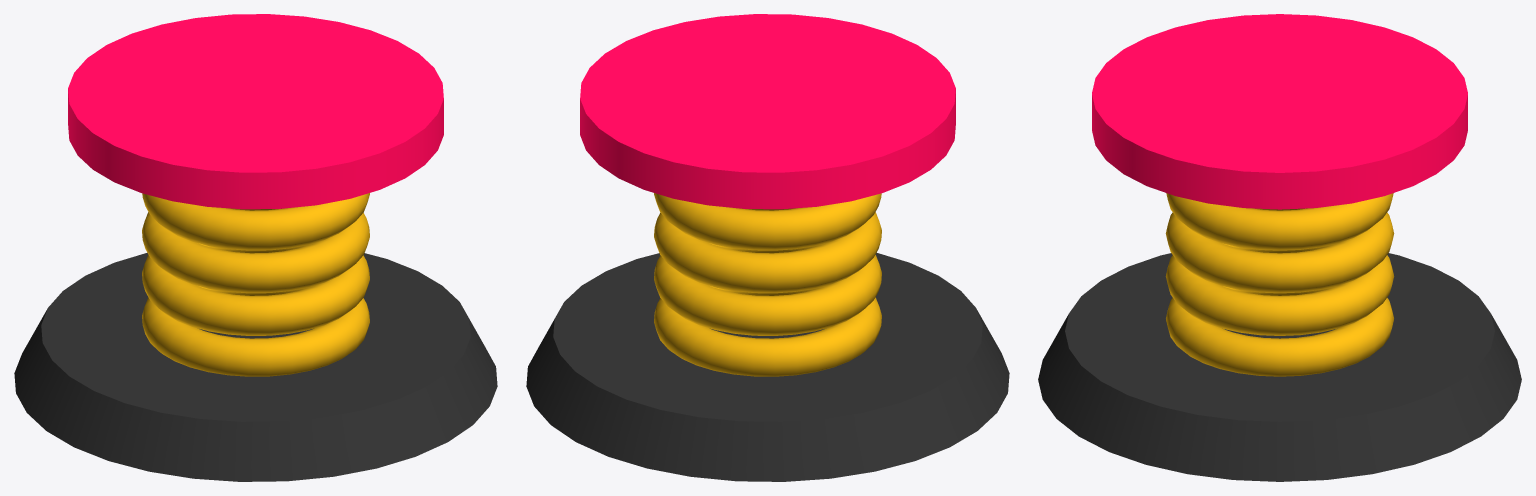
Rendered from spring_pad.glb.
3 views of the same model, side by side, from view 1: azimuth 30°, elevation 25°; view 2: azimuth 150°, elevation 25°; view 3: azimuth 270°, elevation 25° (orthographic).
Parts seen in each view (by area): view 1: model_spring_pad; view 2: model_spring_pad; view 3: model_spring_pad.
Part boxes in pixels (left/top/right/bottom): model_spring_pad: left=14, top=14, right=497, bottom=481; model_spring_pad: left=526, top=14, right=1009, bottom=481; model_spring_pad: left=1038, top=14, right=1521, bottom=481.
Size of the model in its own units: 3.6 by 2.35 by 3.6.
